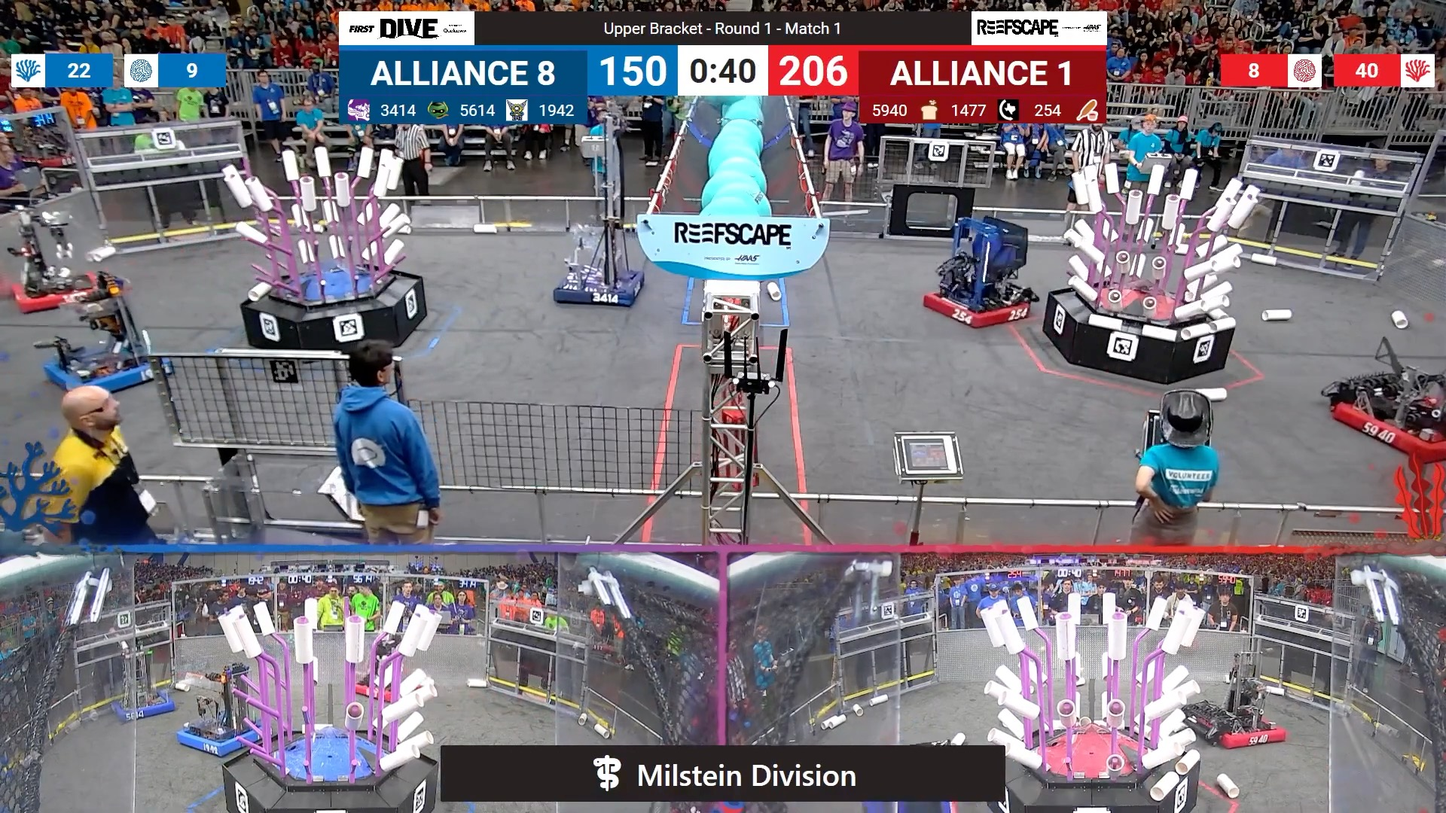bumpers: (1326, 383, 1446, 460), (36, 344, 172, 399), (914, 281, 1039, 333), (1175, 703, 1293, 755), (0, 264, 105, 315), (173, 710, 277, 759), (548, 261, 651, 309), (102, 692, 181, 726)
